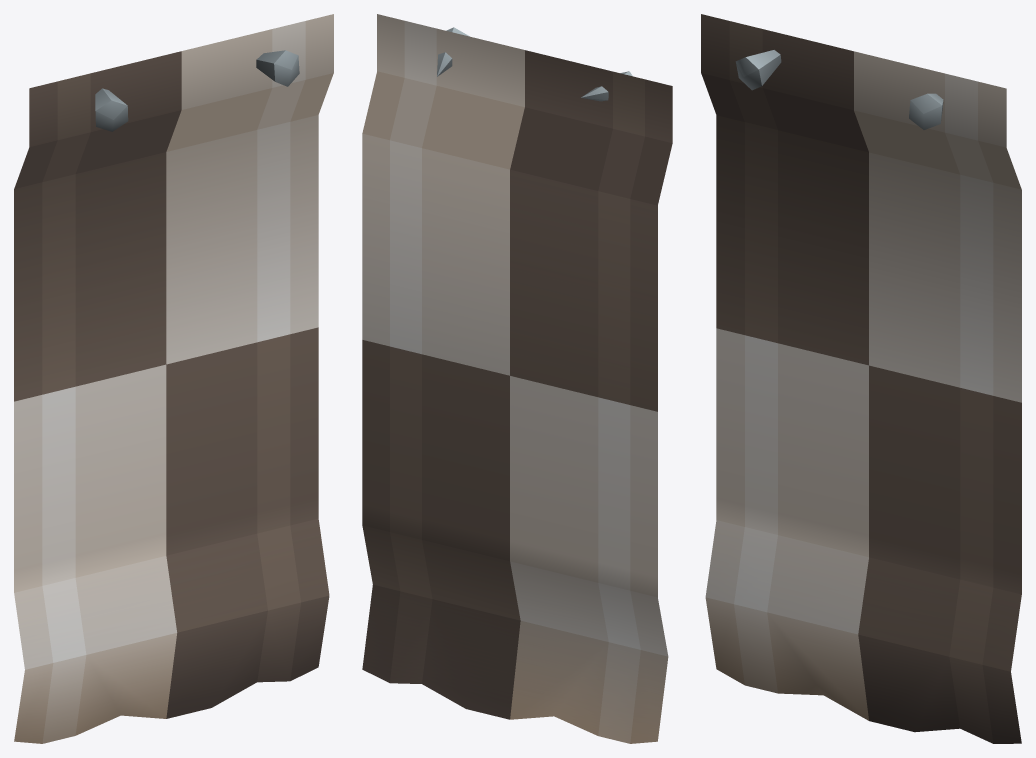
File: banner_patternA_white.gltf
The picture shows the model from 3 angles, left to right: view 1: azimuth 30°, elevation 25°; view 2: azimuth 150°, elevation 25°; view 3: azimuth 330°, elevation 25°; orthographic projection. The views are drawn at different scales.
Visible parts, largest first — view 1: banner_patternA_white; view 2: banner_patternA_white; view 3: banner_patternA_white.
Boxes of the visible parts, box(x1,y1,x2,y2) form: banner_patternA_white: box(14, 14, 333, 743); banner_patternA_white: box(362, 14, 672, 743); banner_patternA_white: box(701, 14, 1021, 743).
Size of the model in its own units: 1.5 by 3.2 by 0.3119.
Materials: 1 (1 with a texture image).
